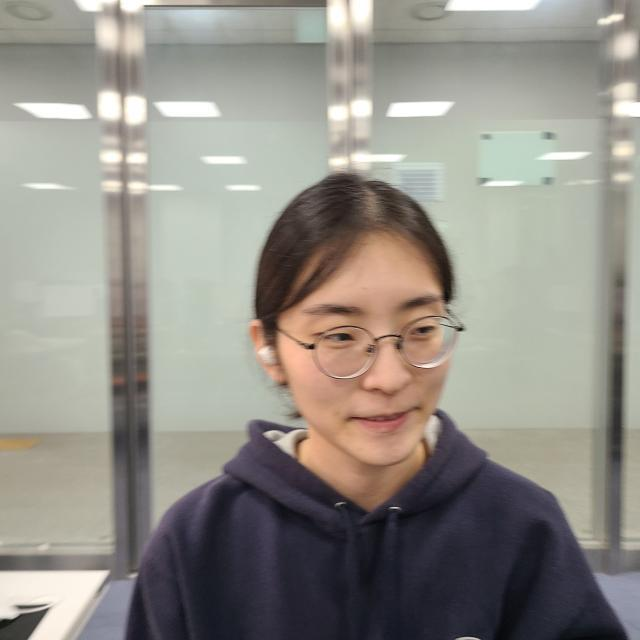earphone: (249, 339, 306, 391)
